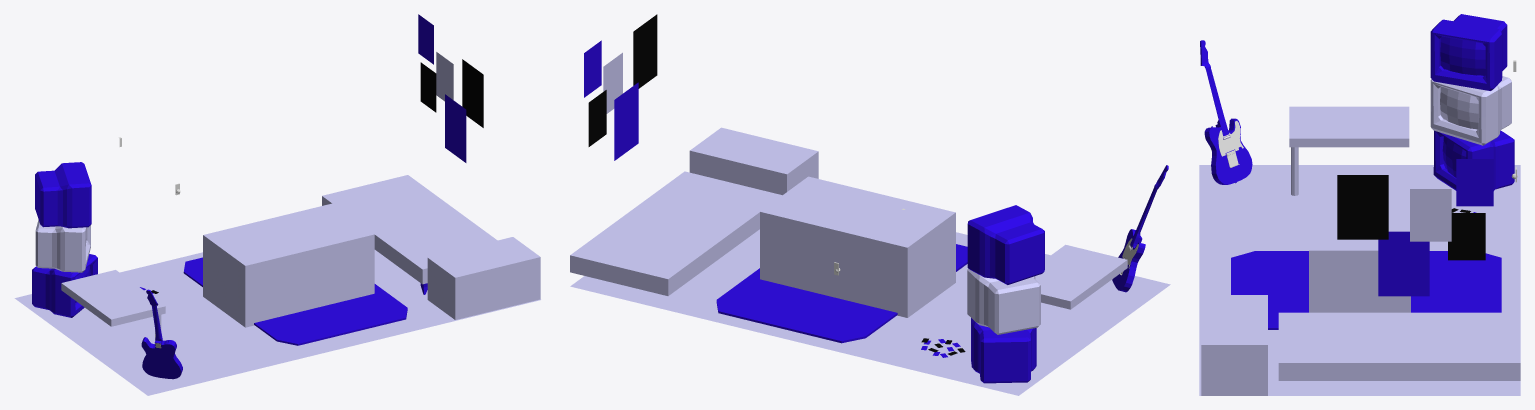
The model's file is room_colored_no_walls.glb.
3 views of the same model, side by side, from view 1: azimuth 30°, elevation 25°; view 2: azimuth 150°, elevation 25°; view 3: azimuth 270°, elevation 25° (orthographic). The views are drawn at different scales.
Parts seen in each view (by area): view 1: Walls, Table, Cube.003, Cube.005, Plane.005, Cube.006, Tv.002, Tv.001, Tv, Body, Plane.011, Plane.007 (+3 smaller); view 2: Table, Walls, Cube.003, Plane.005, Cube.005, Tv.002, Tv.001, Cube.006, Tv, Plane.011, Plane.007, Body (+3 smaller); view 3: Walls, Cube.003, Table, Plane.005, Cube.005, Cube.006, Tv.002, Tv.001, Plane.007, Plane.011, Tv, Body (+3 smaller).
Part boxes in pixels (left/top/right/bottom): Walls: left=14, top=250, right=540, bottom=395; Table: left=203, top=203, right=374, bottom=327; Cube.003: left=322, top=175, right=497, bottom=284; Cube.005: left=427, top=237, right=540, bottom=319; Plane.005: left=183, top=257, right=407, bottom=345; Cube.006: left=61, top=270, right=165, bottom=340; Tv.002: left=35, top=162, right=91, bottom=228; Tv.001: left=35, top=219, right=90, bottom=272; Tv: left=32, top=254, right=97, bottom=317; Body: left=141, top=289, right=182, bottom=379; Plane.011: left=445, top=94, right=466, bottom=162; Plane.007: left=462, top=59, right=483, bottom=127; Table: left=760, top=176, right=955, bottom=317; Walls: left=570, top=229, right=1170, bottom=395; Cube.003: left=570, top=171, right=782, bottom=295; Plane.005: left=716, top=244, right=967, bottom=343; Cube.005: left=689, top=127, right=818, bottom=195; Tv.002: left=967, top=205, right=1044, bottom=284; Tv.001: left=967, top=268, right=1040, bottom=334; Cube.006: left=1035, top=244, right=1127, bottom=309; Tv: left=971, top=318, right=1036, bottom=383; Plane.011: left=614, top=82, right=638, bottom=160; Plane.007: left=633, top=14, right=657, bottom=88; Body: left=1112, top=165, right=1168, bottom=292; Walls: left=1199, top=165, right=1520, bottom=395; Cube.003: left=1278, top=312, right=1520, bottom=380; Table: left=1309, top=174, right=1410, bottom=312; Plane.005: left=1231, top=251, right=1501, bottom=329; Cube.005: left=1201, top=295, right=1267, bottom=395; Cube.006: left=1289, top=106, right=1409, bottom=195; Tv.002: left=1430, top=14, right=1507, bottom=90; Tv.001: left=1430, top=76, right=1511, bottom=145; Plane.007: left=1337, top=175, right=1388, bottom=239; Plane.011: left=1378, top=231, right=1429, bottom=296; Tv: left=1433, top=130, right=1514, bottom=190; Body: left=1200, top=40, right=1252, bottom=184.
Bounding box in the file's own units: 5.96 × 2.84 × 3.5.
